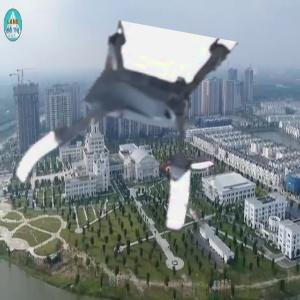drone: (15, 23, 226, 234)
